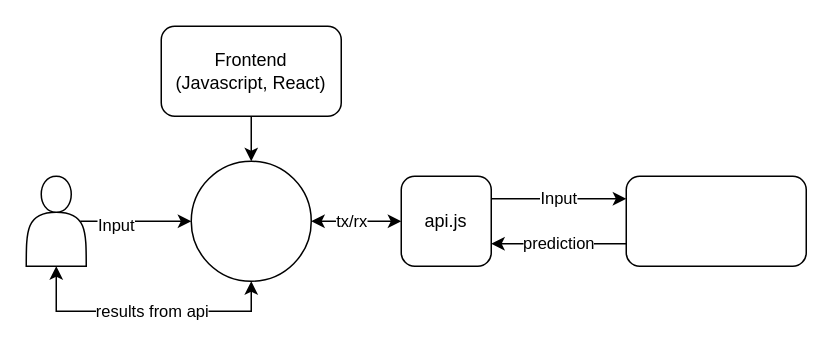
The diagram is 833 pixels wide and 351 high, and some of its shapes have lost their labels. The shapes that lost their labels are listed below. From the top down, each one's box as (x1, y1, x2, y2) in pixels, then its label:
(190, 160, 311, 281): Web app
(625, 175, 806, 266): Backend (Python, Flask)
